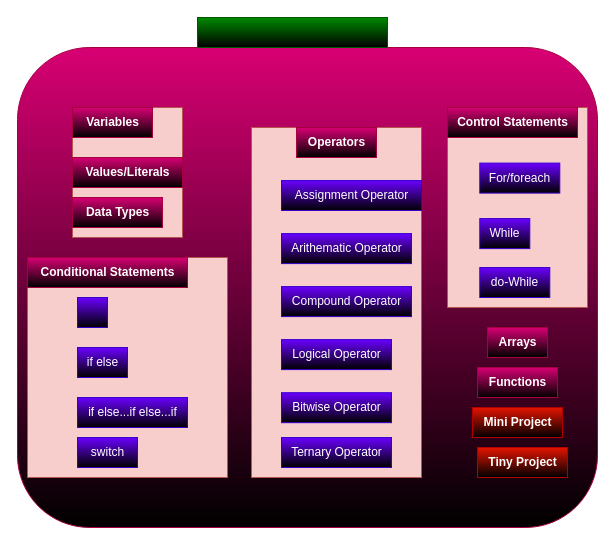
This 615x545 diagram has some shape labels left out. The centre of each missing label's shape, as x and y in pixels:
"if" belongs at (x=92, y=312).
"Programming Fundamentals" belongs at (x=292, y=32).
